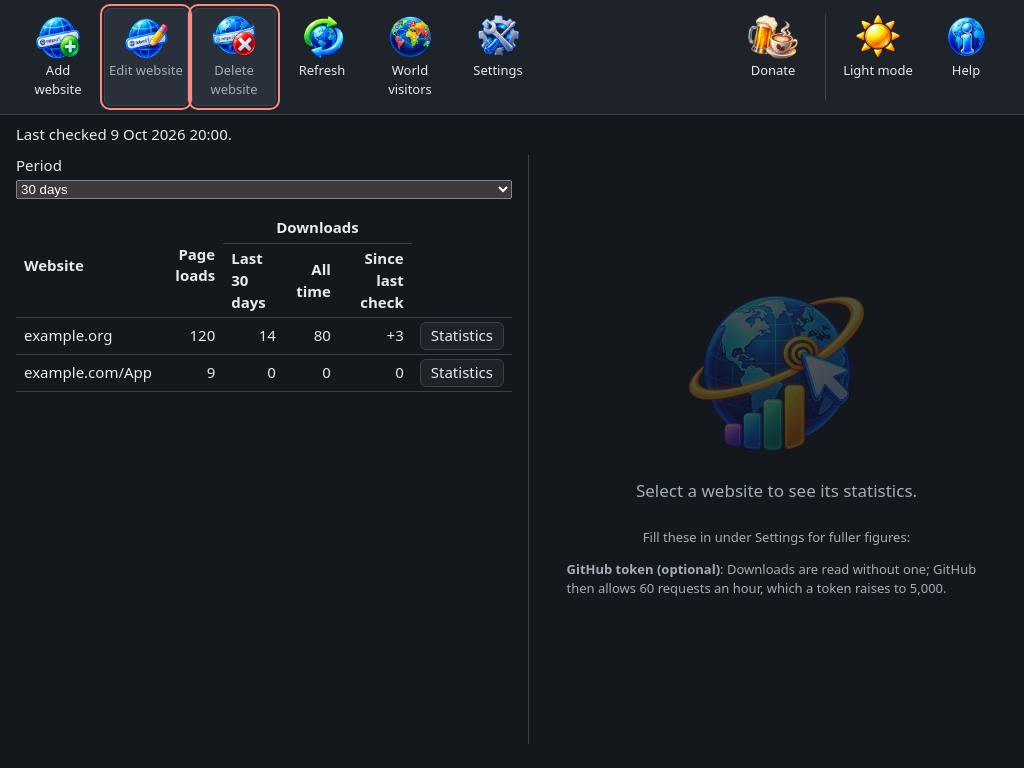
it: the shell › shows the selected website in detail and enables Edit and Delete
Expected: the element named "No website selected" shows "Select a website to see its statistics.", [636,479,917,502]
Expected: the element named "No website selected" shows "GitHub token (optional)", [566,560,720,578]
Click the text "example.org" at (88, 337), box [16,318,160,355]
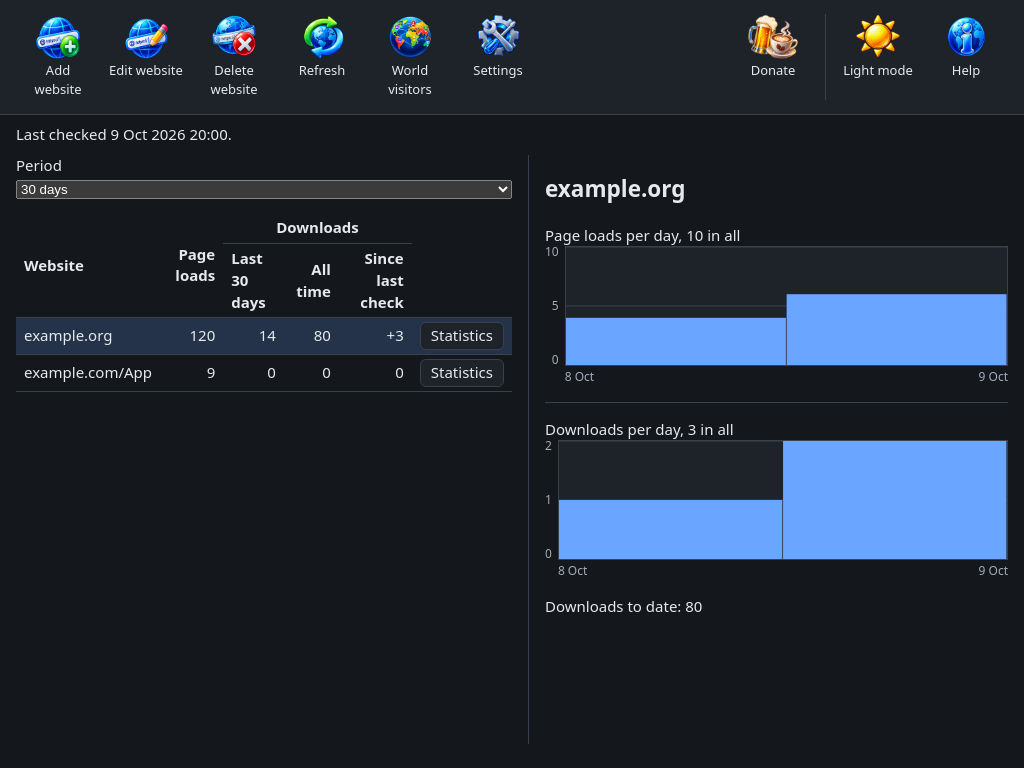
Expected: the heading "example.org" is shown, [545,173,686,204]
Expected: the button "Edit website" is enabled, [104,8,188,106]
Expected: the button "Delete website" is enabled, [192,8,276,106]
